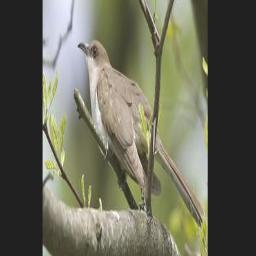Cuckoo: (79, 36, 206, 227)
